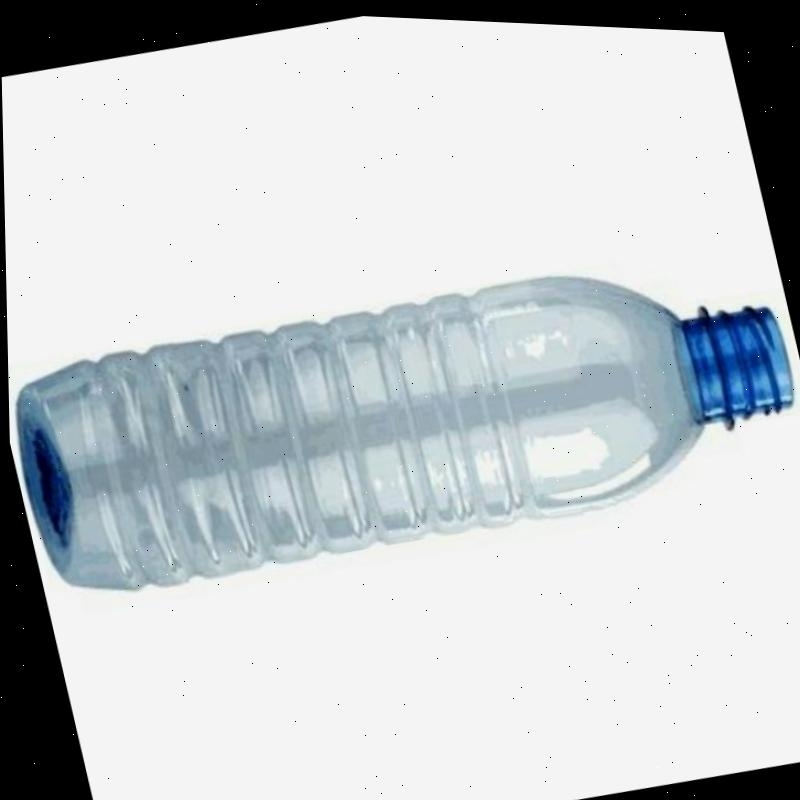botella: (3, 200, 800, 629)
